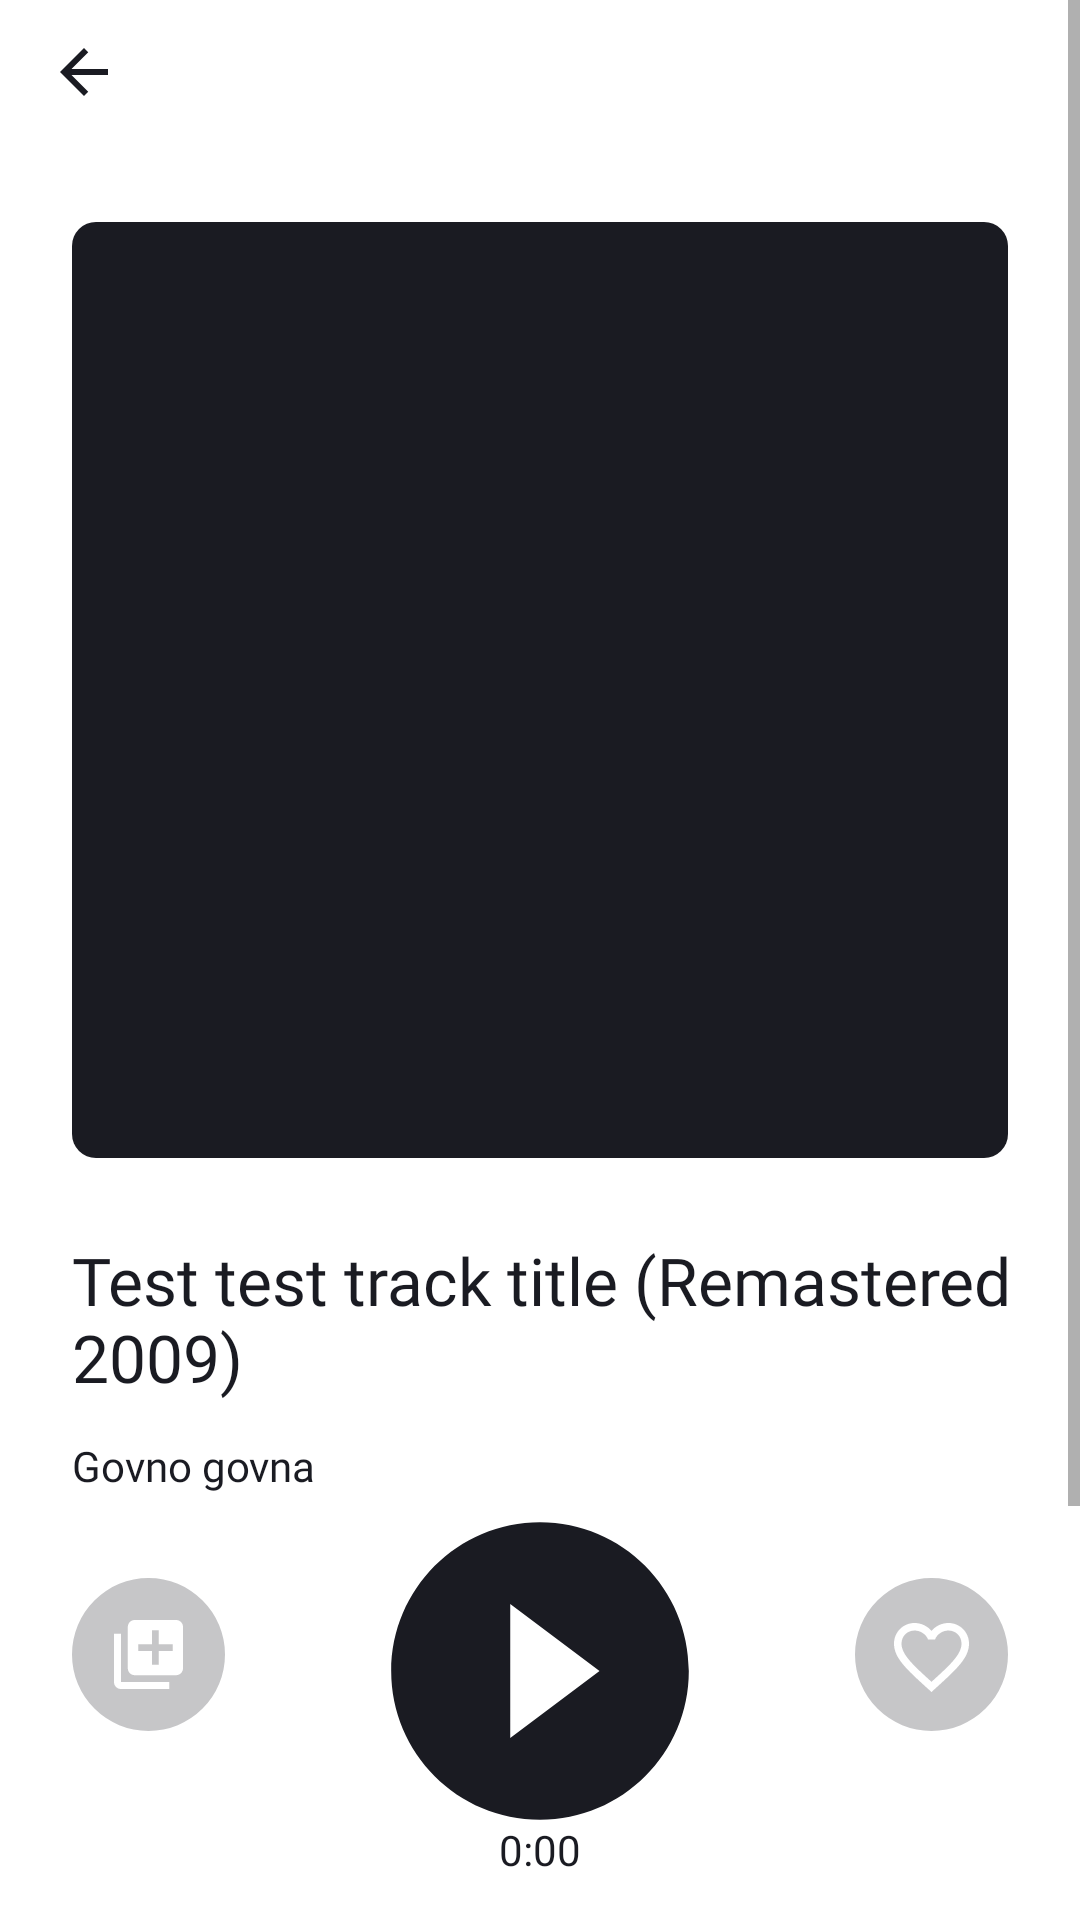

Point at icon controls on the screen. Image size 1080px×1920px, points as (x,y).
add: (148,1654)
like: (931,1654)
play: (540,1671)
